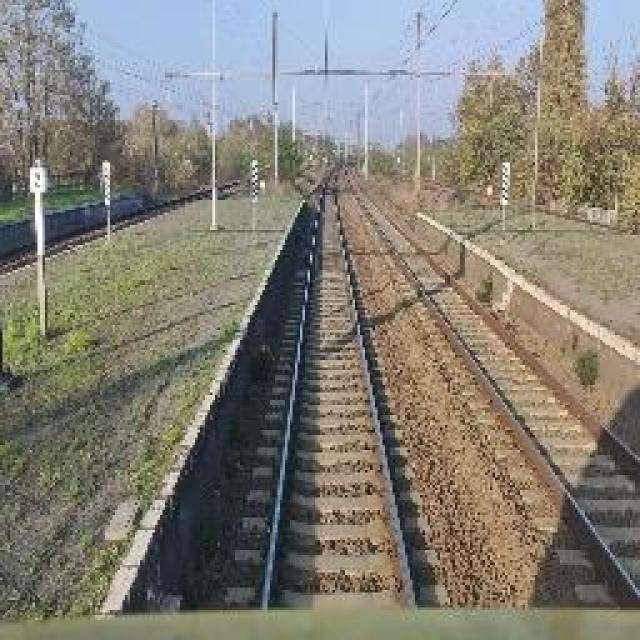rail: (344, 166, 640, 607), (219, 154, 455, 616)
